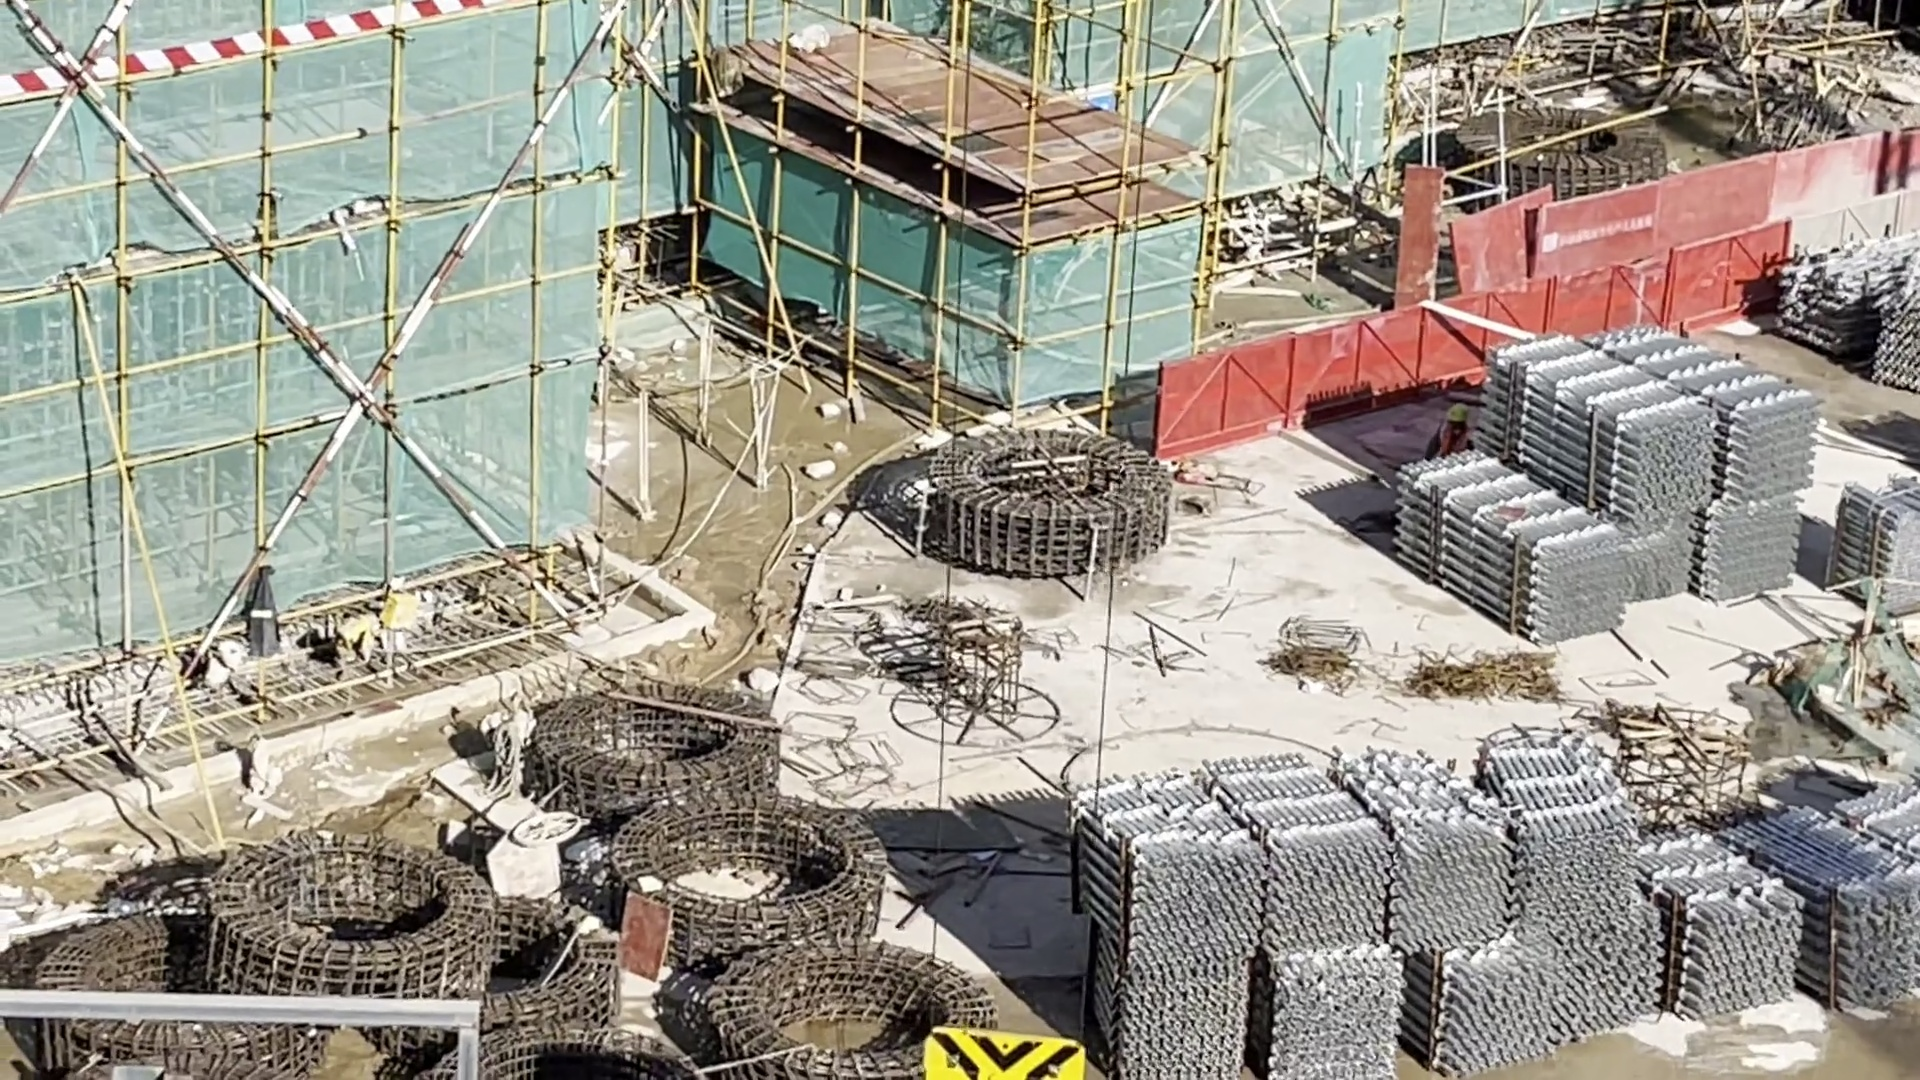fence: (1152, 193, 1920, 463)
helmet: (1442, 395, 1476, 430)
person: (1429, 399, 1477, 483)
scaffold: (1064, 756, 1920, 1069), (1388, 320, 1812, 643), (1772, 239, 1920, 392), (1840, 482, 1920, 618)
